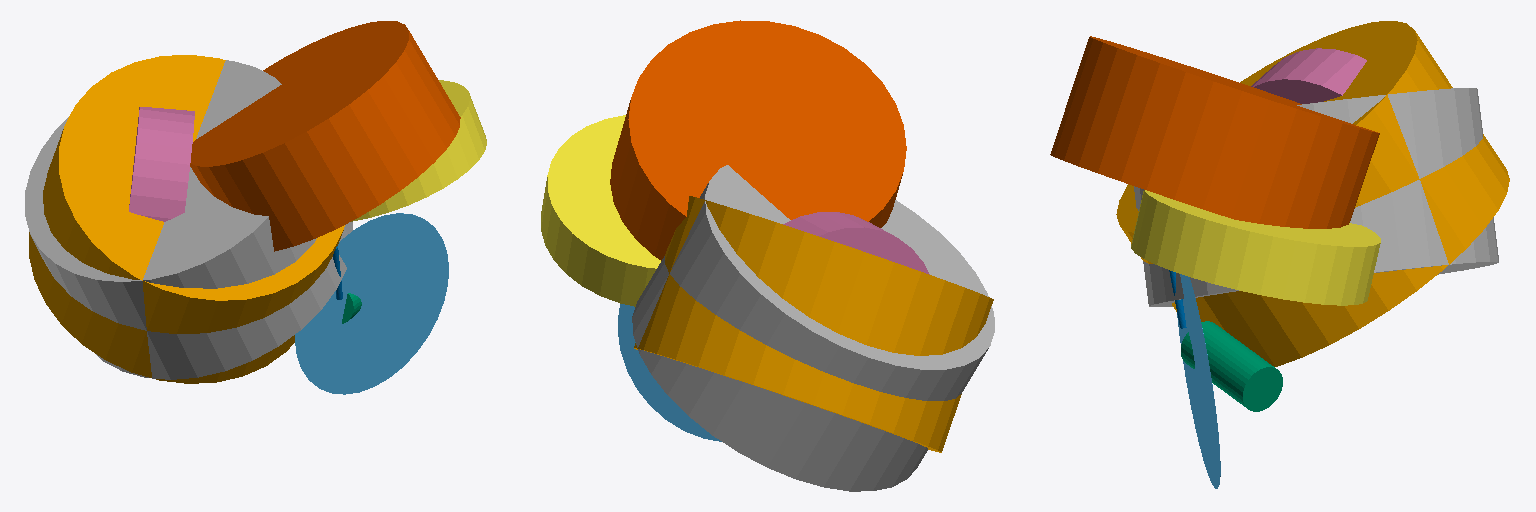
The robot description file, URDF, robot "pepe":
<robot name="pepe">
	<link name="0">
		<visual>
			<geometry>
				<cylinder length="0.019972807067224967" radius="0.002011686301548709"/>
			</geometry>
		</visual>
		<collision>
			<geometry>
				<cylinder length="0.019972807067224967" radius="0.002011686301548709"/>
			</geometry>
		</collision>
		<inertial>
			<mass value="2.5392735959833216e-07"/>
			<inertia ixx="0.03" iyy="0.03" izz="0.03" ixy="0" ixz="0" iyx="0"/>
		</inertial>
	</link>
	<link name="11">
		<visual>
			<geometry>
				<cylinder length="0.00018669200855736634" radius="0.6433571912630214"/>
			</geometry>
		</visual>
		<collision>
			<geometry>
				<cylinder length="0.00018669200855736634" radius="0.6433571912630214"/>
			</geometry>
		</collision>
		<inertial>
			<mass value="0.00024276156039558443"/>
			<inertia ixx="0.03" iyy="0.03" izz="0.03" ixy="0" ixz="0" iyx="0"/>
		</inertial>
	</link>
	<link name="22">
		<visual>
			<geometry>
				<cylinder length="0.5825346973094198" radius="0.1344101030337398"/>
			</geometry>
		</visual>
		<collision>
			<geometry>
				<cylinder length="0.5825346973094198" radius="0.1344101030337398"/>
			</geometry>
		</collision>
		<inertial>
			<mass value="0.03306248549946934"/>
			<inertia ixx="0.03" iyy="0.03" izz="0.03" ixy="0" ixz="0" iyx="0"/>
		</inertial>
	</link>
	<link name="53">
		<visual>
			<geometry>
				<cylinder length="0.32991061629635154" radius="0.659888503144035"/>
			</geometry>
		</visual>
		<collision>
			<geometry>
				<cylinder length="0.32991061629635154" radius="0.659888503144035"/>
			</geometry>
		</collision>
		<inertial>
			<mass value="0.45132281440264777"/>
			<inertia ixx="0.03" iyy="0.03" izz="0.03" ixy="0" ixz="0" iyx="0"/>
		</inertial>
	</link>
	<link name="74">
		<visual>
			<geometry>
				<cylinder length="0.4282506855319457" radius="0.021542928580594145"/>
			</geometry>
		</visual>
		<collision>
			<geometry>
				<cylinder length="0.4282506855319457" radius="0.021542928580594145"/>
			</geometry>
		</collision>
		<inertial>
			<mass value="0.0006243921334717215"/>
			<inertia ixx="0.03" iyy="0.03" izz="0.03" ixy="0" ixz="0" iyx="0"/>
		</inertial>
	</link>
	<link name="35">
		<visual>
			<geometry>
				<cylinder length="0.6767822617877952" radius="0.8325034157491421"/>
			</geometry>
		</visual>
		<collision>
			<geometry>
				<cylinder length="0.6767822617877952" radius="0.8325034157491421"/>
			</geometry>
		</collision>
		<inertial>
			<mass value="1.473570397274502"/>
			<inertia ixx="0.03" iyy="0.03" izz="0.03" ixy="0" ixz="0" iyx="0"/>
		</inertial>
	</link>
	<link name="46">
		<visual>
			<geometry>
				<cylinder length="0.358516004105492" radius="0.6289221186312428"/>
			</geometry>
		</visual>
		<collision>
			<geometry>
				<cylinder length="0.358516004105492" radius="0.6289221186312428"/>
			</geometry>
		</collision>
		<inertial>
			<mass value="0.4455045639168888"/>
			<inertia ixx="0.03" iyy="0.03" izz="0.03" ixy="0" ixz="0" iyx="0"/>
		</inertial>
	</link>
	<link name="87">
		<visual>
			<geometry>
				<cylinder length="0.9525721408762844" radius="0.9599301255418282"/>
			</geometry>
		</visual>
		<collision>
			<geometry>
				<cylinder length="0.9525721408762844" radius="0.9599301255418282"/>
			</geometry>
		</collision>
		<inertial>
			<mass value="2.7575728297932733"/>
			<inertia ixx="0.03" iyy="0.03" izz="0.03" ixy="0" ixz="0" iyx="0"/>
		</inertial>
	</link>
	<link name="88">
		<visual>
			<geometry>
				<cylinder length="0.9525721408762844" radius="0.9599301255418282"/>
			</geometry>
		</visual>
		<collision>
			<geometry>
				<cylinder length="0.9525721408762844" radius="0.9599301255418282"/>
			</geometry>
		</collision>
		<inertial>
			<mass value="2.7575728297932733"/>
			<inertia ixx="0.03" iyy="0.03" izz="0.03" ixy="0" ixz="0" iyx="0"/>
		</inertial>
	</link>
	<link name="69">
		<visual>
			<geometry>
				<cylinder length="0.00153756204312816" radius="0.02708229181987041"/>
			</geometry>
		</visual>
		<collision>
			<geometry>
				<cylinder length="0.00153756204312816" radius="0.02708229181987041"/>
			</geometry>
		</collision>
		<inertial>
			<mass value="3.5428547611058314e-06"/>
			<inertia ixx="0.03" iyy="0.03" izz="0.03" ixy="0" ixz="0" iyx="0"/>
		</inertial>
	</link>
	<link name="610">
		<visual>
			<geometry>
				<cylinder length="0.00153756204312816" radius="0.02708229181987041"/>
			</geometry>
		</visual>
		<collision>
			<geometry>
				<cylinder length="0.00153756204312816" radius="0.02708229181987041"/>
			</geometry>
		</collision>
		<inertial>
			<mass value="3.5428547611058314e-06"/>
			<inertia ixx="0.03" iyy="0.03" izz="0.03" ixy="0" ixz="0" iyx="0"/>
		</inertial>
	</link>
	<joint name="11_to_0" type="revolute">
		<parent link="0"/>
		<child link="11"/>
		<axis xyz="0 0 1"/>
		<limit effort="1" upper="-3.1415" lower="3.1415" velocity="1"/>
		<origin rpy="4.599220098856529 3.612390086619138 0.21865470734290898" xyz="0.6270726565351545 0.45386870664634127 0.9934344682645572"/>
	</joint>
	<joint name="22_to_11" type="revolute">
		<parent link="11"/>
		<child link="22"/>
		<axis xyz="1 0 0"/>
		<limit effort="1" upper="-3.1415" lower="3.1415" velocity="1"/>
		<origin rpy="11.626505171087503 5.516802298202429 0.7791319437868018" xyz="0.0019279200350848108 0.0005248485264476697 0.18877120123119884"/>
	</joint>
	<joint name="53_to_22" type="revolute">
		<parent link="22"/>
		<child link="53"/>
		<axis xyz="0 0 1"/>
		<limit effort="1" upper="-3.1415" lower="3.1415" velocity="1"/>
		<origin rpy="0.10051264616390823 1.3953726500600625 3.620509695951334" xyz="0.6345348520150791 0.6369416216841768 0.23249578398044024"/>
	</joint>
	<joint name="74_to_53" type="revolute">
		<parent link="53"/>
		<child link="74"/>
		<axis xyz="1 0 0"/>
		<limit effort="1" upper="-3.1415" lower="3.1415" velocity="1"/>
		<origin rpy="2.926150237106665 3.4902134344414972 2.629317776859516" xyz="0.7645397743925203 0.1809127031109862 0.4547575271281963"/>
	</joint>
	<joint name="35_to_11" type="revolute">
		<parent link="11"/>
		<child link="35"/>
		<axis xyz="0 1 0"/>
		<limit effort="1" upper="-3.1415" lower="3.1415" velocity="1"/>
		<origin rpy="15.855197879314145 4.22851677776207 0.5600087386388388" xyz="0.807546668794237 0.9347432046170919 0.26792392211434435"/>
	</joint>
	<joint name="46_to_35" type="revolute">
		<parent link="35"/>
		<child link="46"/>
		<axis xyz="0 1 0"/>
		<limit effort="1" upper="-3.1415" lower="3.1415" velocity="1"/>
		<origin rpy="6.785089119530647 2.3121756090544063 4.853502502754321" xyz="0.7134389939078161 0.9788641507588274 0.06884801253084266"/>
	</joint>
	<joint name="87_to_46" type="revolute">
		<parent link="46"/>
		<child link="87"/>
		<axis xyz="0 1 0"/>
		<limit effort="1" upper="-3.1415" lower="3.1415" velocity="1"/>
		<origin rpy="1.1237722998584785 3.348510114491183 5.698737545195735" xyz="0.06871412873716953 0.028629970202144972 0.23027762422650355"/>
	</joint>
	<joint name="88_to_46" type="revolute">
		<parent link="46"/>
		<child link="88"/>
		<axis xyz="0 1 0"/>
		<limit effort="1" upper="-3.1415" lower="3.1415" velocity="1"/>
		<origin rpy="1.6856584497877178 3.348510114491183 5.698737545195735" xyz="0.06871412873716953 0.028629970202144972 0.23027762422650355"/>
	</joint>
	<joint name="69_to_11" type="revolute">
		<parent link="11"/>
		<child link="69"/>
		<axis xyz="0 0 1"/>
		<limit effort="1" upper="-3.1415" lower="3.1415" velocity="1"/>
		<origin rpy="8.017034822677475 0.49041554351940575 3.3105613913002006" xyz="0.7252082934959747 0.33647244760358364 0.807868748932156"/>
	</joint>
	<joint name="610_to_11" type="revolute">
		<parent link="11"/>
		<child link="610"/>
		<axis xyz="0 0 1"/>
		<limit effort="1" upper="-3.1415" lower="3.1415" velocity="1"/>
		<origin rpy="10.021293528346844 0.49041554351940575 3.3105613913002006" xyz="0.7252082934959747 0.33647244760358364 0.807868748932156"/>
	</joint>
</robot>

--- What the picture shows (computed from the rendered views, not written in the file) ---
The picture shows the robot from 3 angles, left to right: view 1: azimuth 30°, elevation 25°; view 2: azimuth 150°, elevation 25°; view 3: azimuth 270°, elevation 25°; orthographic projection.
Model pepe with 11 links and 10 joints (10 revolute), rooted at 0, posed all joints at 0.
Links seen in each view (by area): view 1: 35, 88, 87, 11, 46, 53; view 2: 35, 87, 88, 53, 46, 11; view 3: 35, 88, 53, 87, 22, 46, 11.
Boxes of the visible links, left/top/right/bottom form: 35: left=190, top=21, right=460, bottom=251; 88: left=29, top=55, right=344, bottom=383; 87: left=25, top=60, right=352, bottom=379; 11: left=295, top=213, right=448, bottom=394; 46: left=129, top=107, right=194, bottom=221; 53: left=351, top=80, right=486, bottom=221; 35: left=610, top=20, right=906, bottom=260; 87: left=632, top=165, right=994, bottom=491; 88: left=634, top=196, right=993, bottom=452; 53: left=541, top=115, right=660, bottom=306; 46: left=783, top=212, right=929, bottom=274; 11: left=618, top=304, right=721, bottom=441; 35: left=1050, top=36, right=1379, bottom=228; 88: left=1116, top=21, right=1509, bottom=366; 53: left=1131, top=190, right=1380, bottom=305; 87: left=1134, top=88, right=1498, bottom=306; 22: left=1181, top=321, right=1282, bottom=411; 46: left=1251, top=48, right=1366, bottom=103; 11: left=1177, top=274, right=1220, bottom=488.
Bounding box of the posed robot: 3.01 × 2.49 × 2.93 m (x, y, z).
Geometry: primitives only (box / cylinder / sphere), no mesh files.
